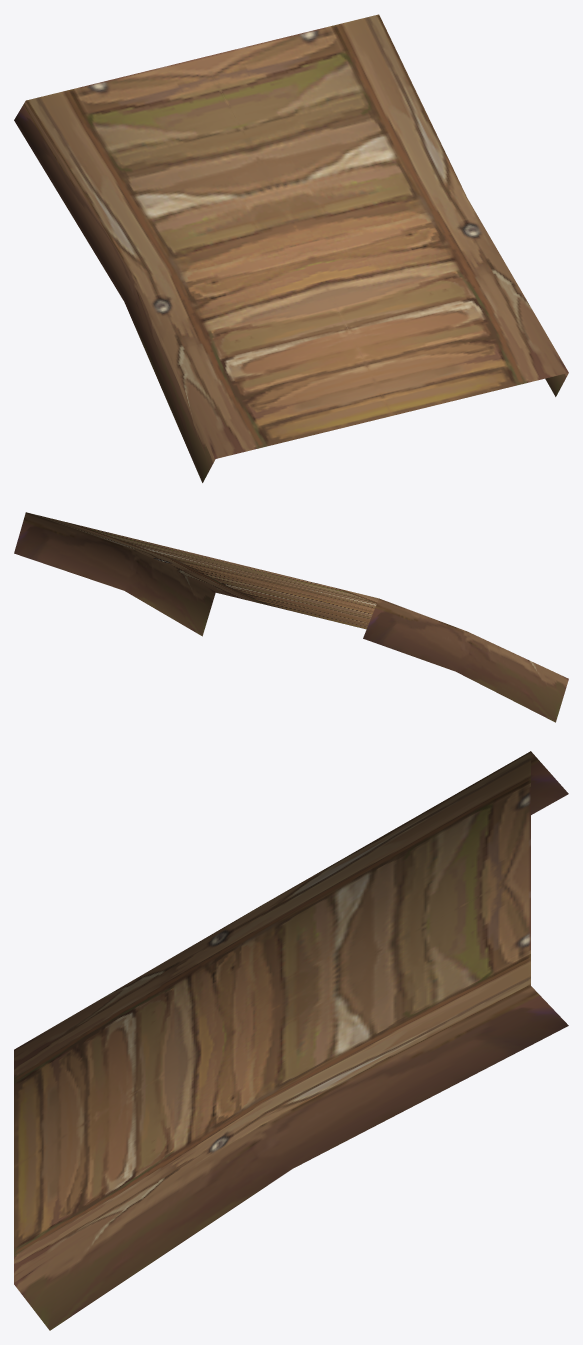
Rendered from Map_06_stairs07.FBX.
3 renders of one model, top to bottom at view 1: azimuth 30°, elevation 25°; view 2: azimuth 150°, elevation 25°; view 3: azimuth 270°, elevation 25°, orthographic. The views are drawn at different scales.
Parts seen in each view (by area): view 1: Map_06_stairs07; view 2: Map_06_stairs07; view 3: Map_06_stairs07.
Boxes of the visible parts, bbox=[...] form: Map_06_stairs07: bbox=[14, 14, 568, 482]; Map_06_stairs07: bbox=[14, 512, 568, 722]; Map_06_stairs07: bbox=[14, 751, 568, 1330].
Bounding box in the file's own units: 281 × 281 × 193.
